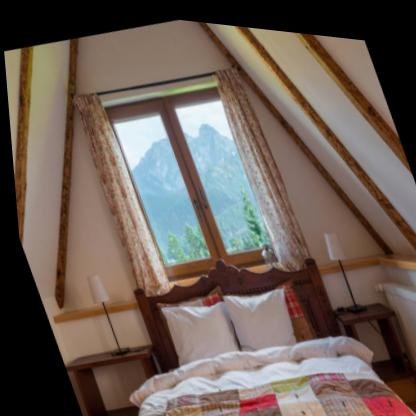Window: (99, 72, 275, 287)
